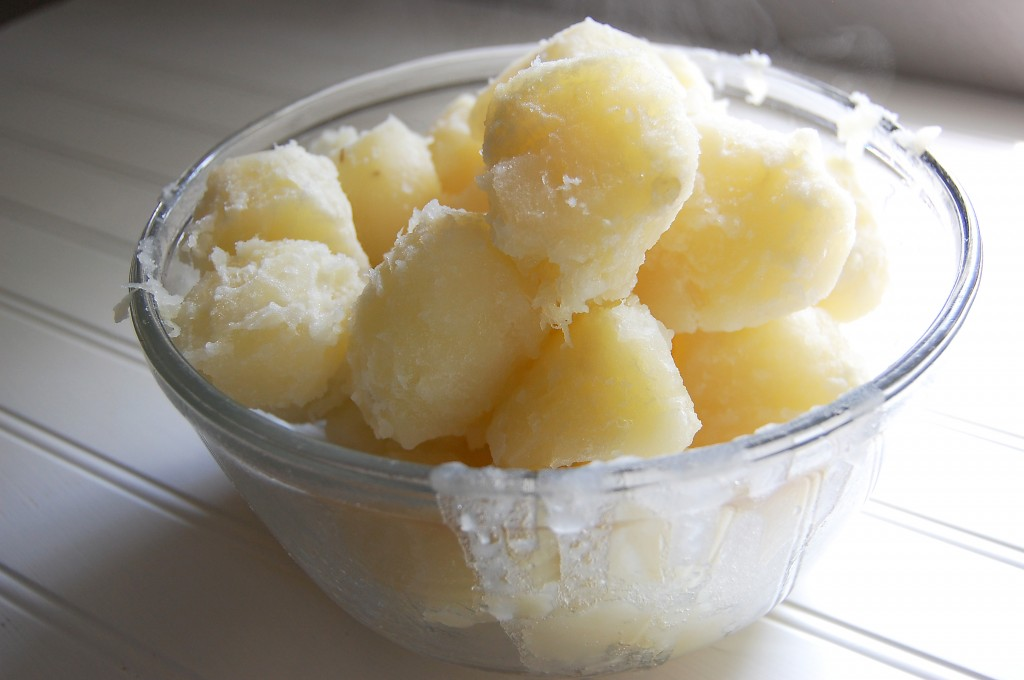boiled potatoes: (486, 42, 701, 270), (351, 220, 538, 446), (655, 137, 851, 320), (489, 305, 682, 466), (194, 242, 359, 398), (680, 315, 864, 427), (339, 114, 493, 227), (203, 145, 352, 246)
